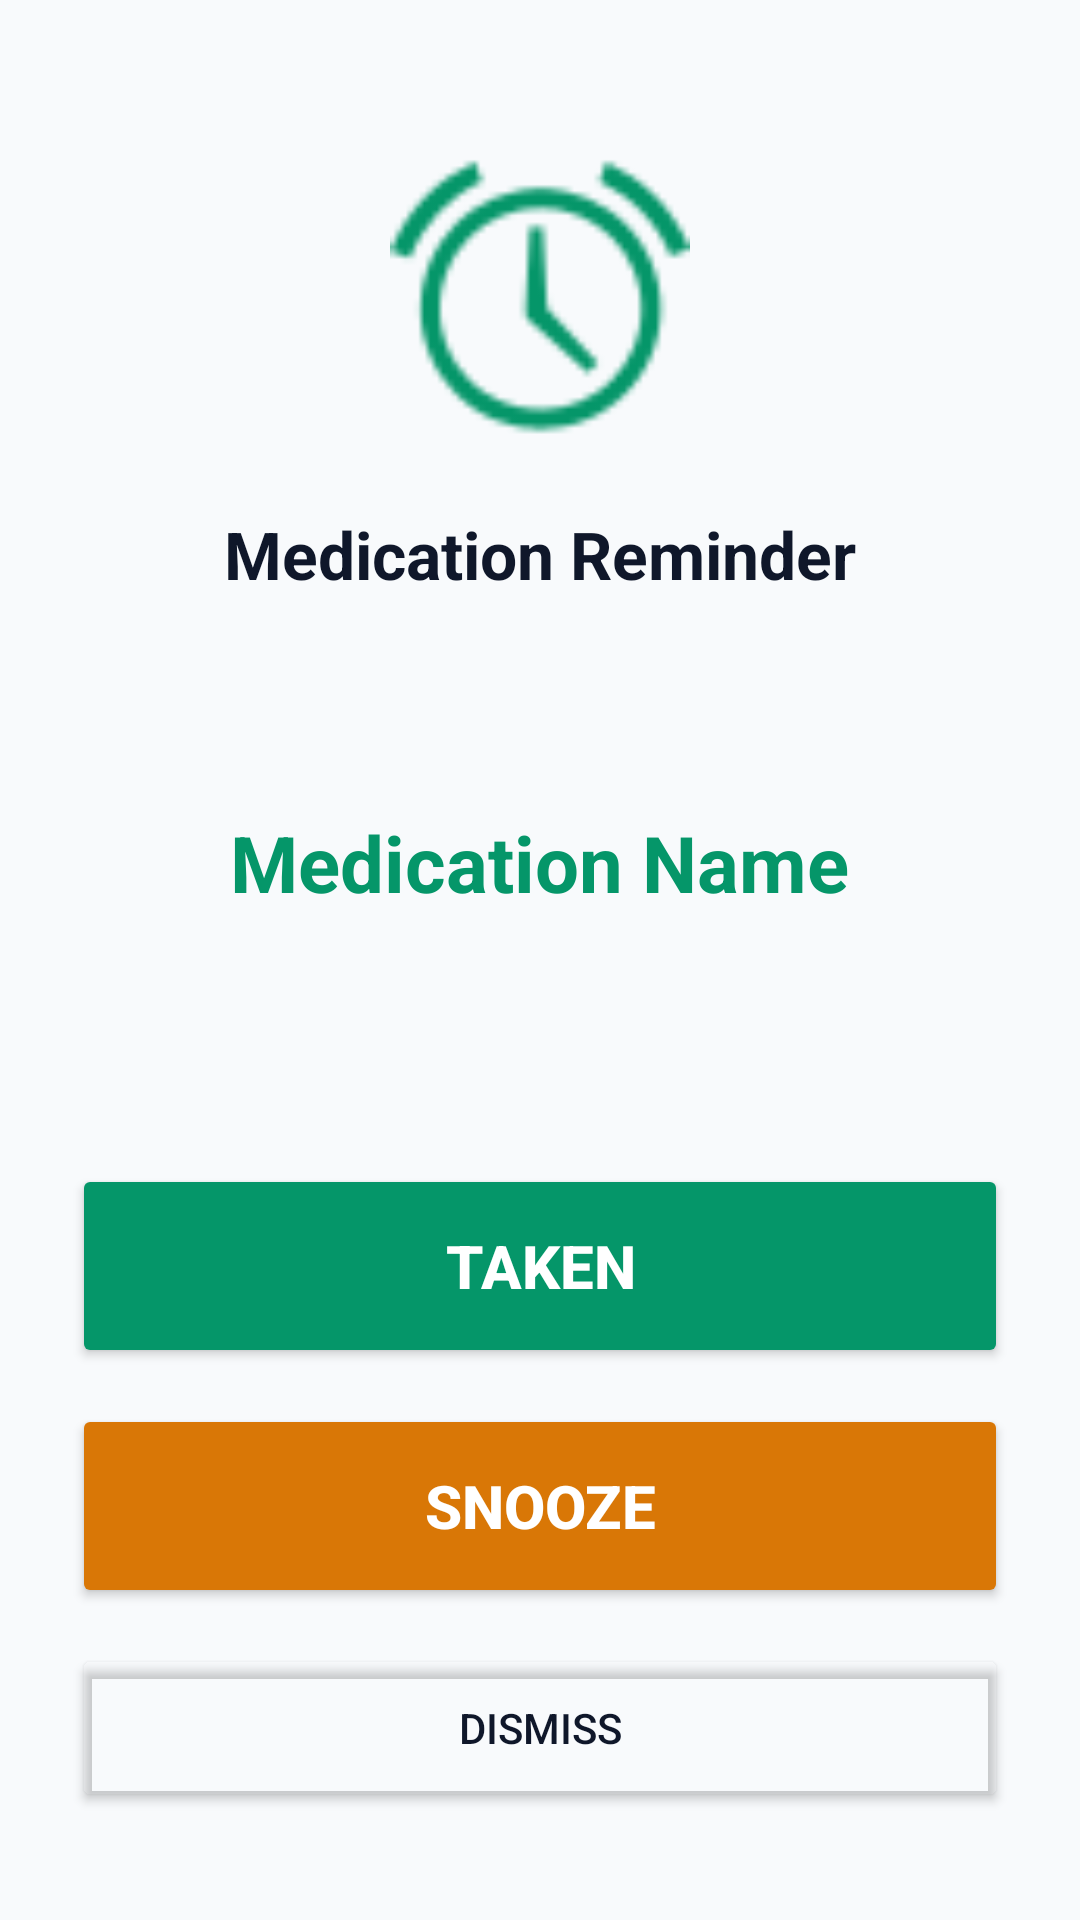

Icon click points for this 1080 × 1920 phone screenshot, format [x,y]:
lock idle alarm: [540,296]
